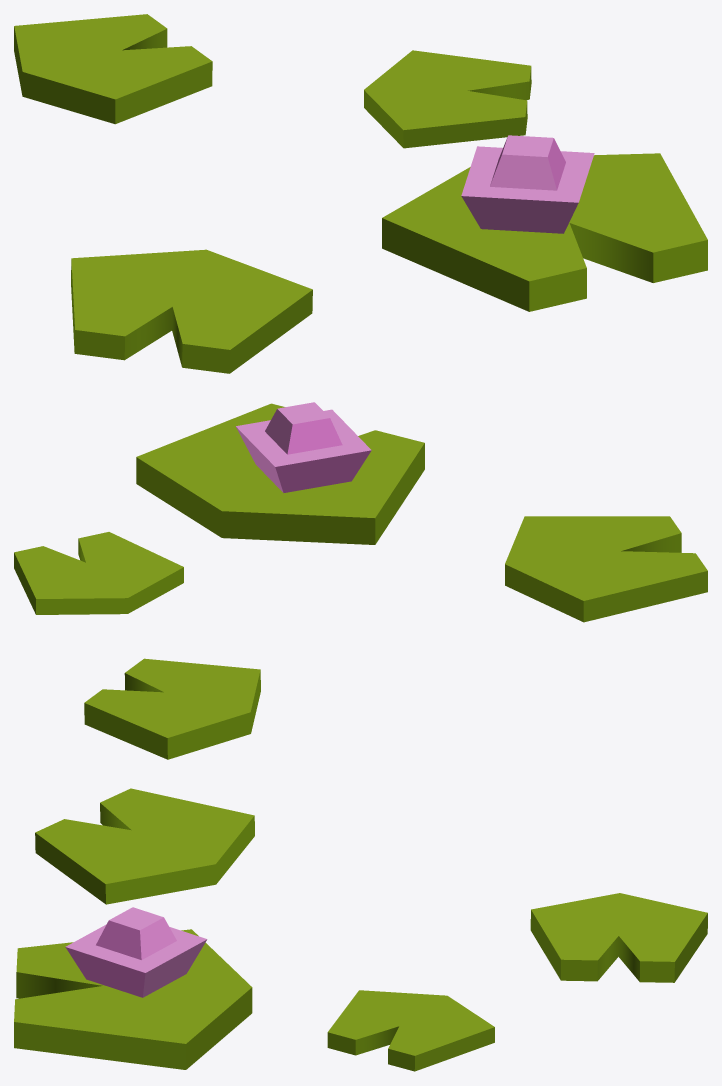
The model's file is ST_Prop_LillyPad_01.fbx.
The picture shows the model from 3 angles, top to bottom: view 1: azimuth 30°, elevation 25°; view 2: azimuth 150°, elevation 25°; view 3: azimuth 270°, elevation 25°; orthographic projection. The views are drawn at different scales.
Parts seen in each view (by area): view 1: ST_Prop_LillyPad_01; view 2: ST_Prop_LillyPad_01; view 3: ST_Prop_LillyPad_01.
Part boxes in pixels (left/top/right/bottom): ST_Prop_LillyPad_01: left=14, top=14, right=707, bottom=373; ST_Prop_LillyPad_01: left=14, top=402, right=707, bottom=759; ST_Prop_LillyPad_01: left=14, top=788, right=707, bottom=1071.
Size of the model in its own units: 2.65 by 0.435 by 2.99.
